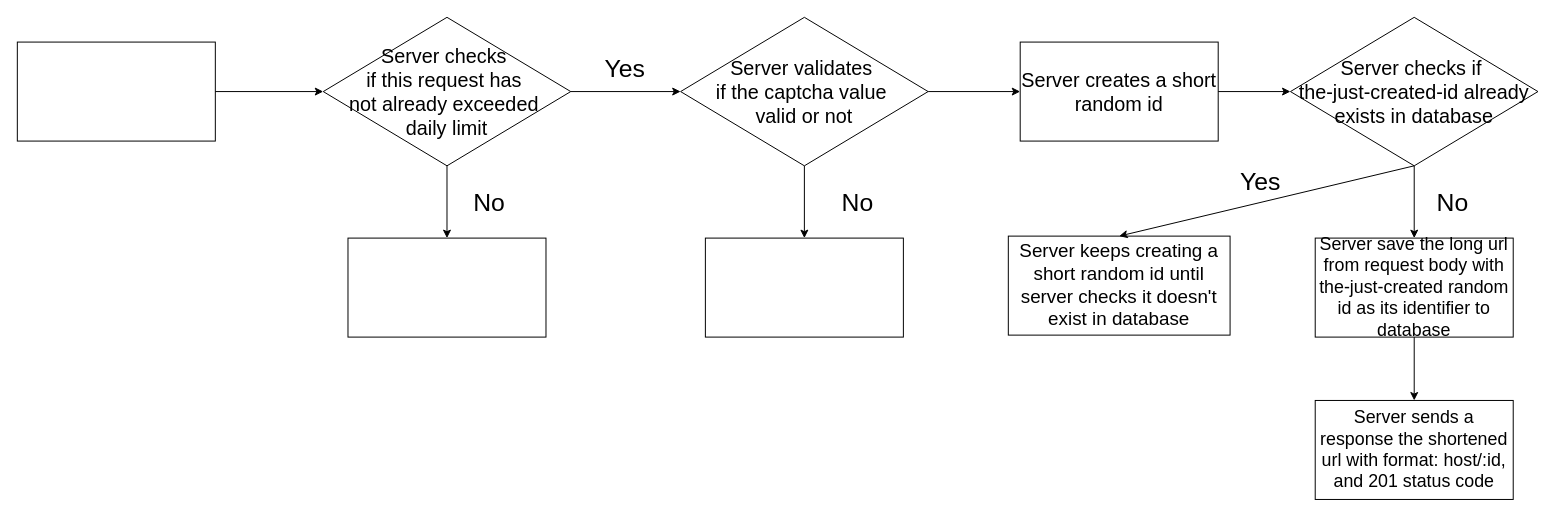
Image size: 1555x517. Some labels were removed from this diagram. Each missing label, with the centre of its shape:
Request sent with the long url and captcha value attached to the body: pixel 115 91
Server sends a response on unauthorized and 401 status code: pixel 803 287
Sever sends a response on rate limit and 429 status code: pixel 446 287
